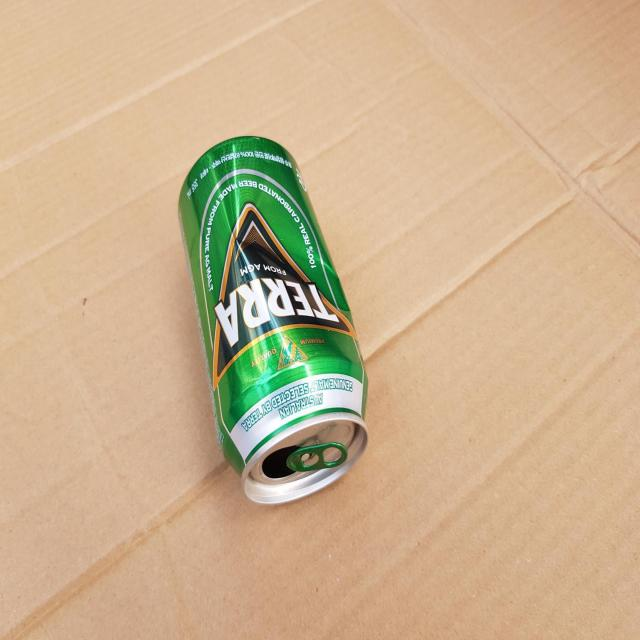can: (178, 136, 368, 505)
